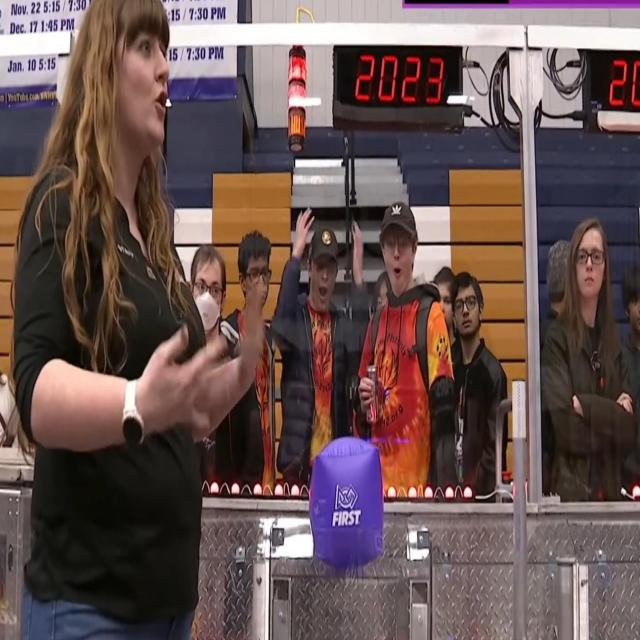frc_cube: (308, 435, 381, 568)
